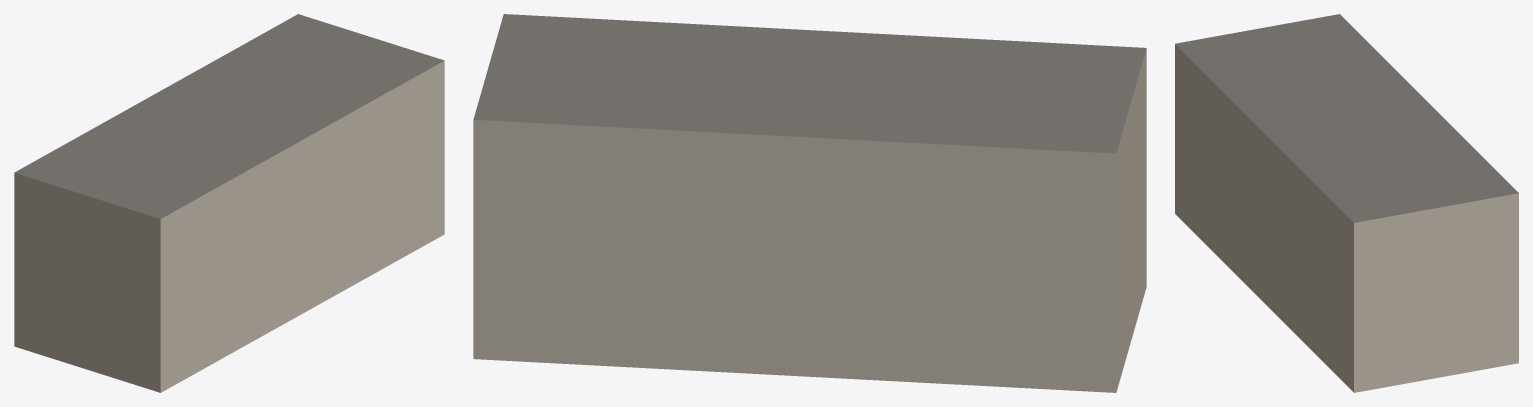
The picture shows the model from 3 angles, left to right: view 1: azimuth 30°, elevation 25°; view 2: azimuth 150°, elevation 25°; view 3: azimuth 270°, elevation 25°; orthographic projection. The views are drawn at different scales.
Visible parts, largest first — view 1: HP-w1058569009; view 2: HP-w1058569009; view 3: HP-w1058569009.
Part boxes in pixels (left/top/right/bottom): HP-w1058569009: left=14, top=14, right=444, bottom=392; HP-w1058569009: left=473, top=14, right=1146, bottom=392; HP-w1058569009: left=1175, top=14, right=1518, bottom=392.
Size of the model in its own units: 47.44 by 18 by 33.
